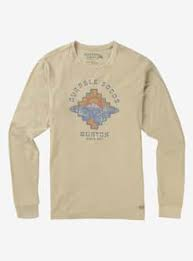T-Shirt: (9, 40, 188, 222)
